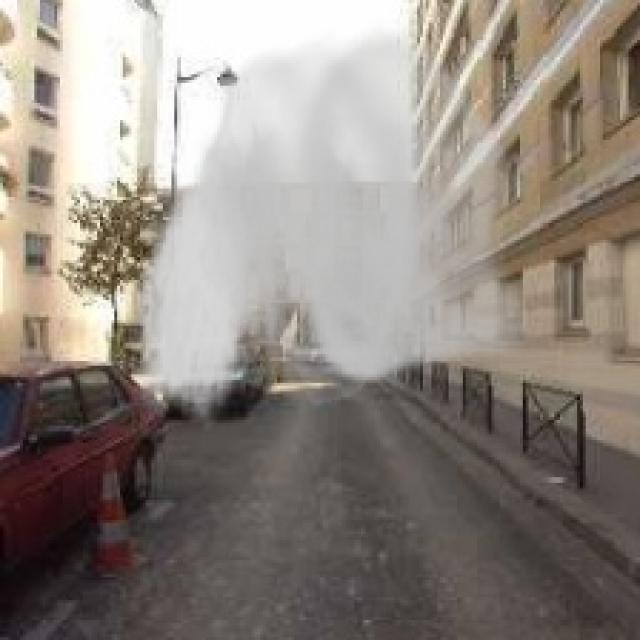smoke: (132, 17, 528, 432)
